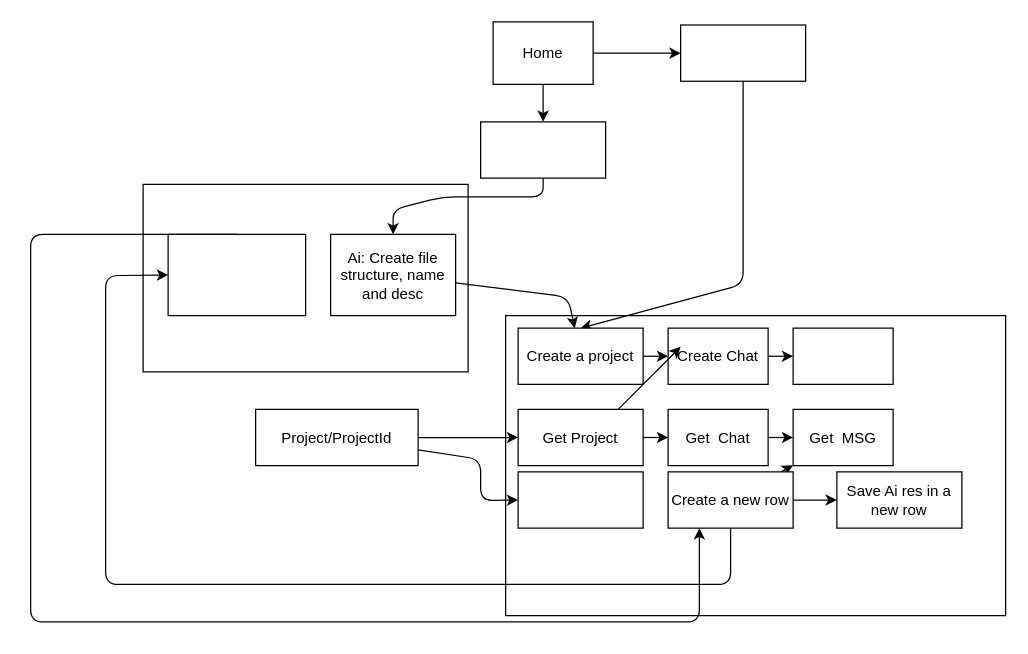
The diagram is 1028 pixels wide and 654 high, and some of its shapes have lost their labels. The centre of each missing label's shape, as x and y in pixels:
"Ai: Generate each file" belongs at pixel 236 274.
"Create initial msg" belongs at pixel 842 355.
"Create new Project" belongs at pixel 742 52.
"Enter Prompt" belongs at pixel 542 149.
"Send MSG" belongs at pixel 580 499.
